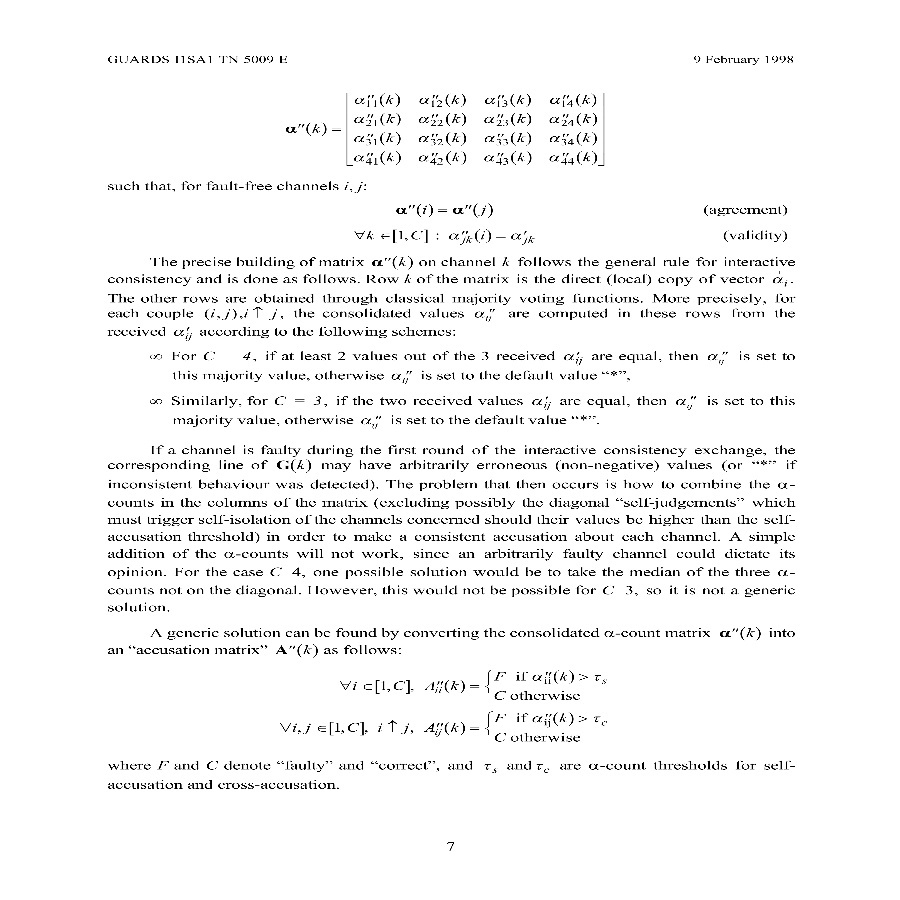eq: (276, 88, 620, 168), (275, 708, 615, 751), (336, 668, 616, 700), (353, 226, 542, 247), (391, 199, 501, 219)
